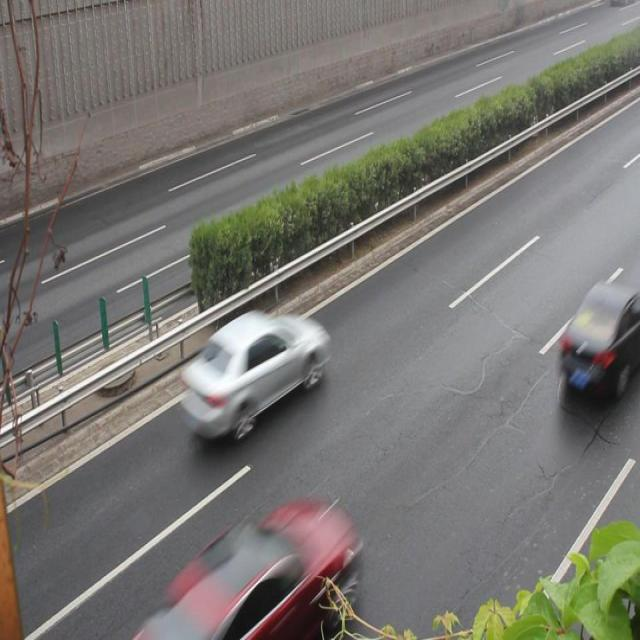car: (156, 501, 352, 640), (179, 311, 324, 438), (558, 279, 640, 403)
